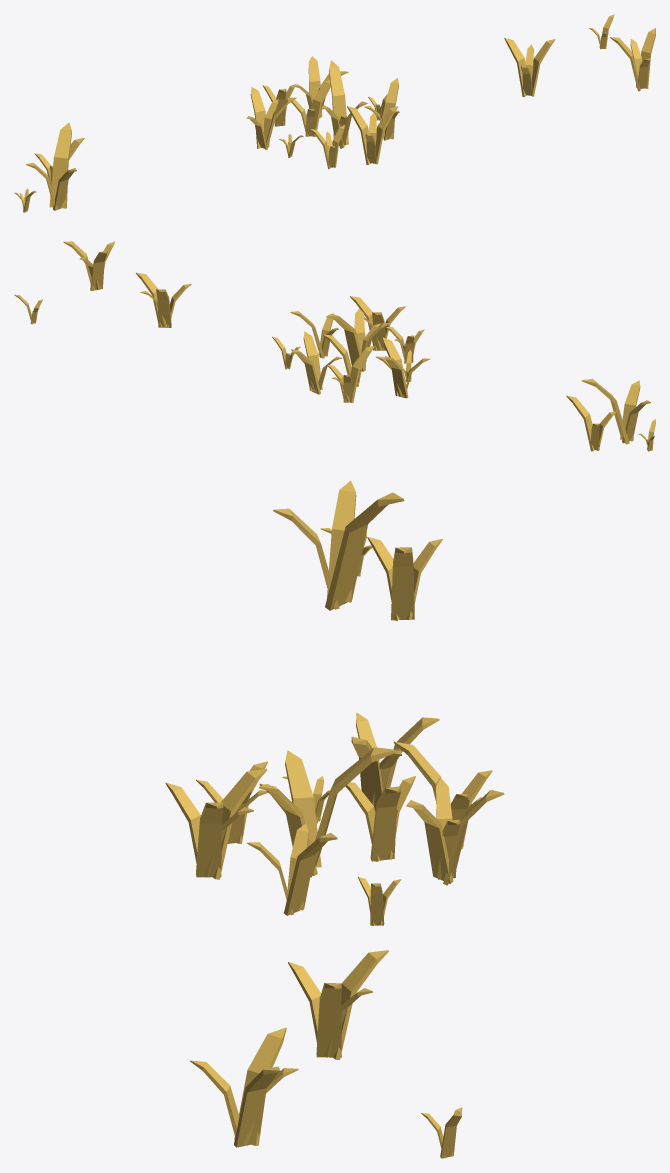
The model's file is grass_types.fbx.
3 views of the same model, one above another, from view 1: azimuth 30°, elevation 25°; view 2: azimuth 150°, elevation 25°; view 3: azimuth 270°, elevation 25° (orthographic). The views are drawn at different scales.
Visible parts, largest first — view 1: Grass1, Grass3, Grass2; view 2: Grass1, Grass2, Grass3; view 3: Grass1, Grass3, Grass2.
Part boxes in pixels (<box>): Grass1: <box>246,56,399,169</box>; Grass3: <box>504,14,655,96</box>; Grass2: <box>14,122,84,212</box>; Grass1: <box>272,296,429,402</box>; Grass2: <box>566,378,655,451</box>; Grass3: <box>14,241,191,327</box>; Grass1: <box>165,712,504,925</box>; Grass3: <box>190,950,462,1158</box>; Grass2: <box>273,480,442,620</box>.
Bounding box in the file's own units: 476 × 48.83 × 113.
